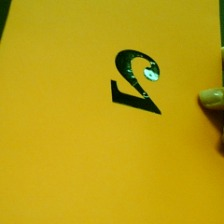orange2: (107, 47, 172, 120)
